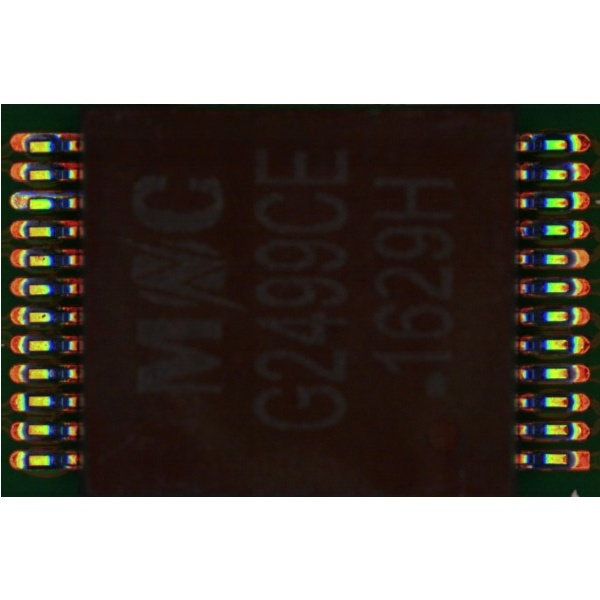Bad_podu: (21, 198, 35, 207)
Bad_qiaojiao: (30, 192, 70, 199)
